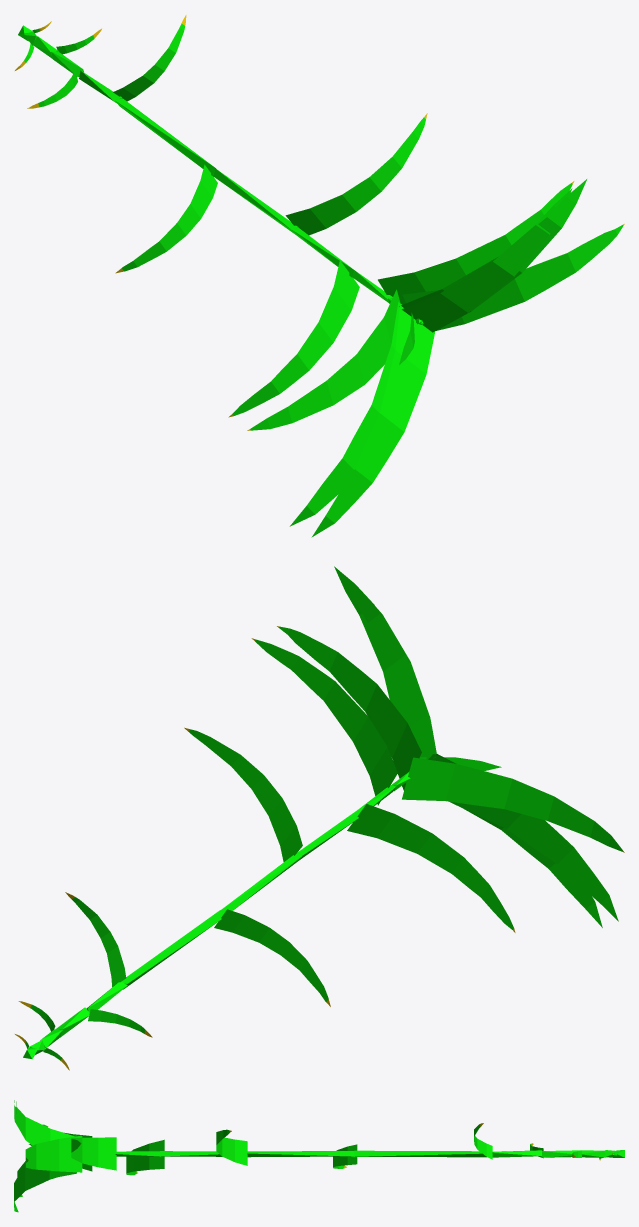
File: usm_16_Beer_2018-10-04_2.obj
3 views of the same model, one above another, from view 1: azimuth 30°, elevation 25°; view 2: azimuth 150°, elevation 25°; view 3: azimuth 270°, elevation 25° (orthographic). The views are drawn at different scales.
Parts seen in each view (by area): view 1: vid_30, vid_32, vid_22, vid_24, vid_18, vid_20, vid_16, vid_26, vid_14, vid_28, vid_12, vid_13 (+1 smaller); view 2: vid_22, vid_24, vid_20, vid_18, vid_28, vid_26, vid_16, vid_14, vid_30, vid_12, vid_13, vid_32 (+1 smaller); view 3: vid_24, vid_20, vid_28, vid_18, vid_13, vid_30, vid_16, vid_15, vid_14, vid_17, vid_11, vid_12 (+3 smaller).
Boxes of the visible parts, x1,y1,x2,y2 form: vid_30: (311,305,434,537); vid_32: (402,188,572,332); vid_22: (250,289,400,430); vid_24: (402,225,623,330); vid_18: (232,260,359,415); vid_20: (378,183,572,304); vid_16: (285,117,425,235); vid_26: (290,302,401,526); vid_14: (122,164,217,271); vid_28: (399,179,586,316); vid_12: (113,23,185,101); vid_13: (115,98,215,175); vid_22: (402,757,622,851); vid_24: (278,626,421,790); vid_20: (255,639,397,805); vid_18: (347,804,513,929); vid_28: (334,566,435,759); vid_26: (402,754,618,920); vid_16: (189,729,302,861); vid_14: (214,909,328,1001); vid_30: (435,753,602,927); vid_12: (72,897,126,986); vid_13: (122,910,222,989); vid_32: (346,578,436,753); vid_24: (25,1135,82,1172); vid_20: (71,1137,116,1170); vid_28: (14,1100,74,1145); vid_18: (126,1139,164,1175); vid_13: (354,1150,486,1157); vid_30: (14,1135,73,1212); vid_16: (216,1129,247,1165); vid_15: (247,1151,354,1157); vid_14: (333,1144,357,1168); vid_17: (160,1151,222,1156); vid_11: (492,1150,541,1157); vid_12: (474,1124,492,1159).
Bounding box in the file's own units: 131 × 102 × 273.
